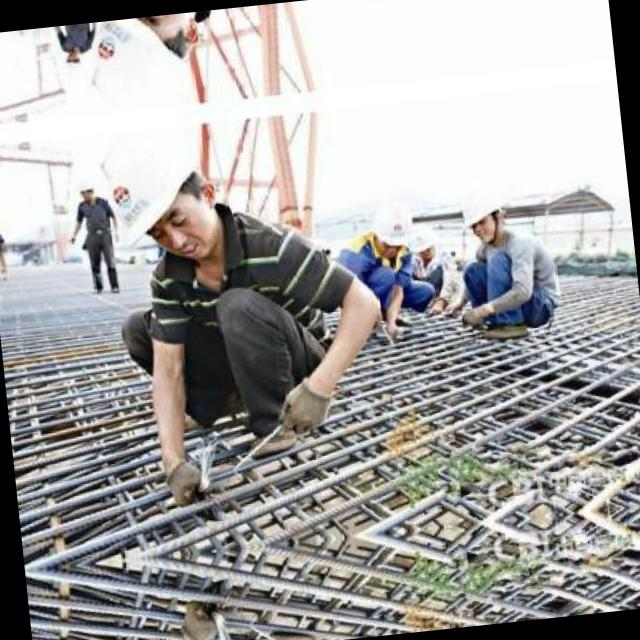helmet: (114, 140, 234, 273), (100, 10, 216, 93), (454, 178, 514, 250), (368, 188, 415, 257), (406, 215, 444, 263), (70, 170, 96, 202), (58, 48, 84, 80)
